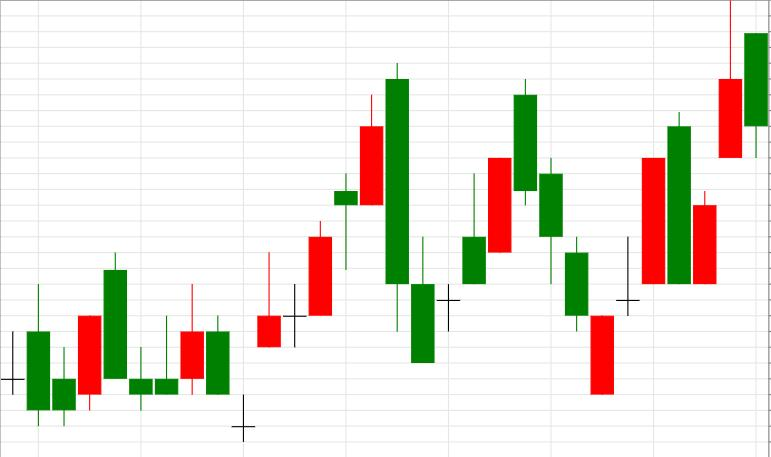bearish_engulfing_fall: (232, 62, 408, 441)
